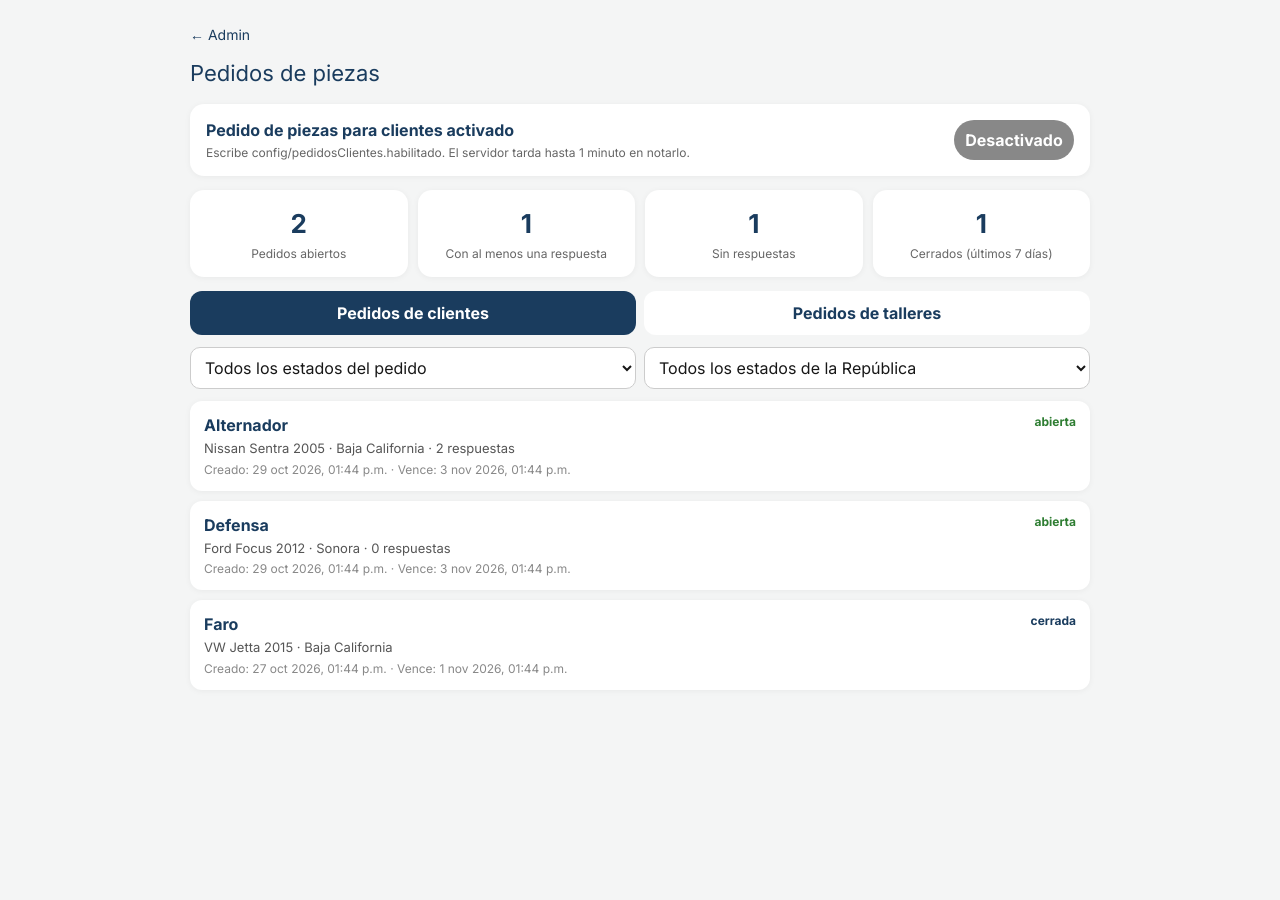
Test: panel admin "Pedidos de piezas" › al abrir un pedido muestra el WhatsApp del cliente con botón a WhatsApp y las respuestas
Step 1. Click the text "Alternador" → click(246, 425), box [204,413,288,437]
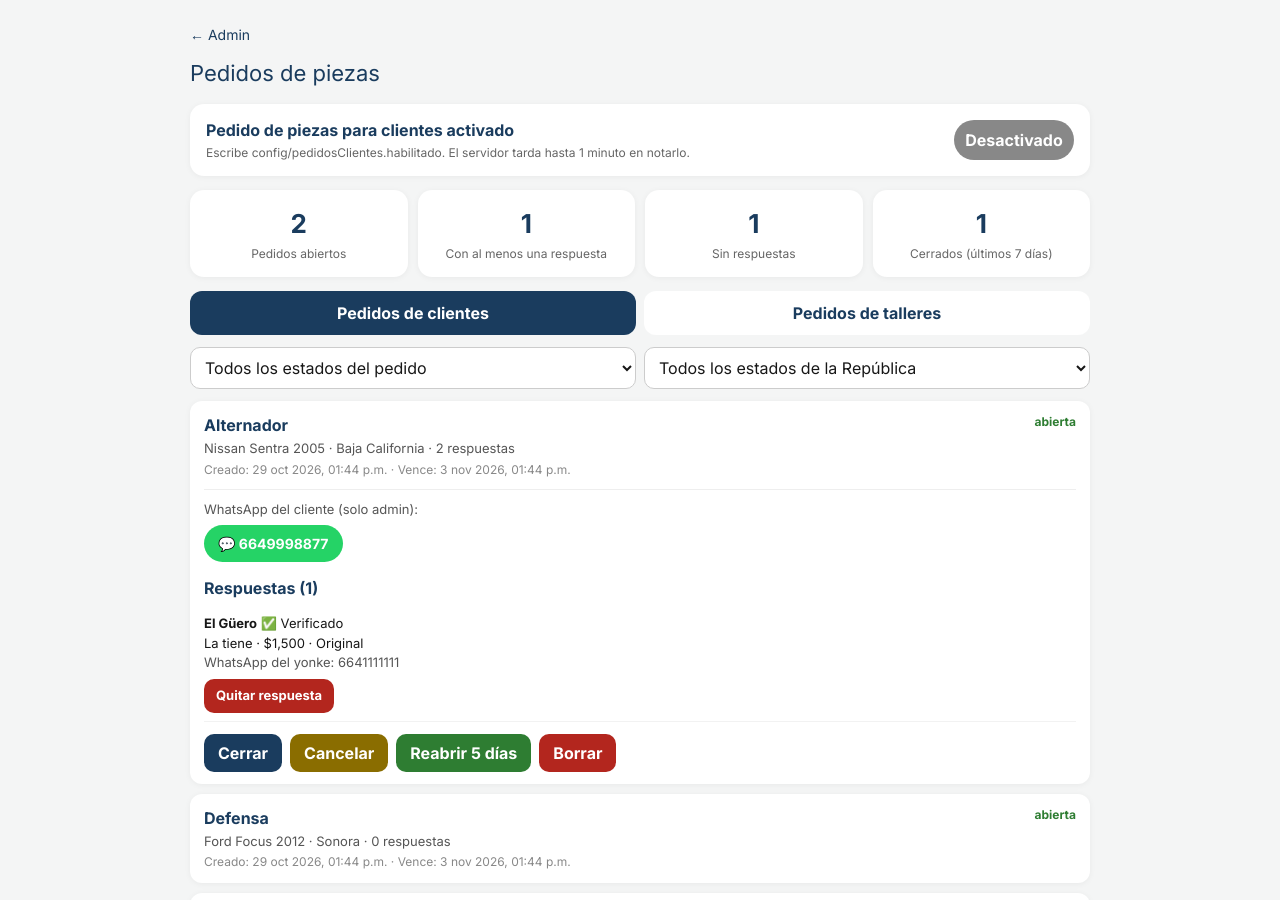
expect the text "El Güero" is shown: met, box [204,615,257,631]
expect the text "La tiene · $1,500 · Original" is shown: met, box [204,634,363,650]
expect the text "WhatsApp del yonke: 6641111111" is shown: met, box [204,654,399,670]
